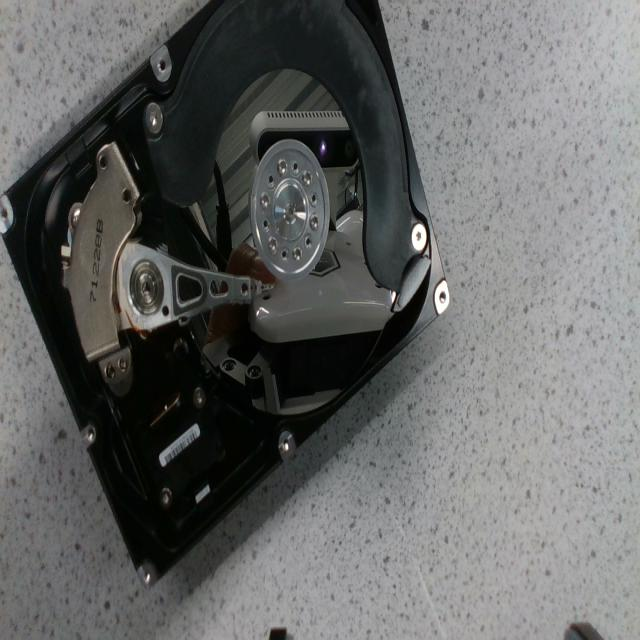actuator arm: (118, 243, 250, 332)
actuator axis: (130, 260, 162, 314)
case: (0, 0, 450, 583)
magnet: (64, 143, 141, 361)
pcb connector: (141, 386, 231, 526)
platter: (166, 73, 398, 416)
platter holder: (250, 140, 330, 279)
platter protector: (148, 0, 419, 291)
screw: (144, 103, 162, 136), (412, 221, 426, 252), (193, 387, 205, 409), (160, 488, 172, 508), (268, 236, 278, 253), (278, 158, 287, 175), (260, 193, 269, 209), (310, 214, 318, 230), (293, 247, 302, 260), (303, 172, 312, 185)
